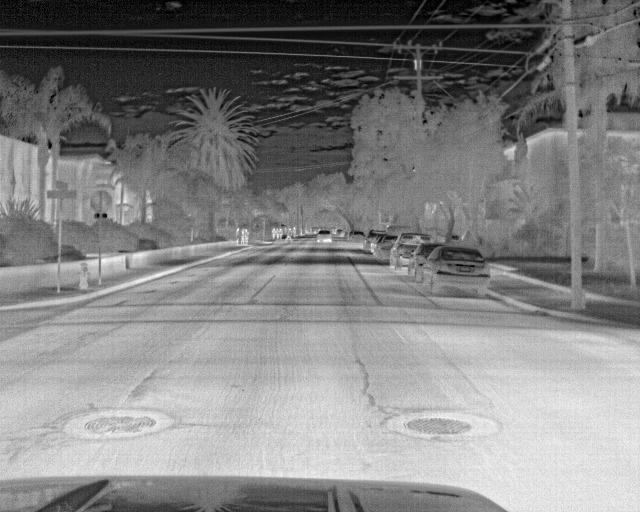car: (419, 245, 490, 299), (389, 232, 432, 271), (413, 244, 443, 279), (364, 230, 390, 250), (378, 233, 397, 260), (316, 229, 335, 245), (347, 228, 366, 242)
